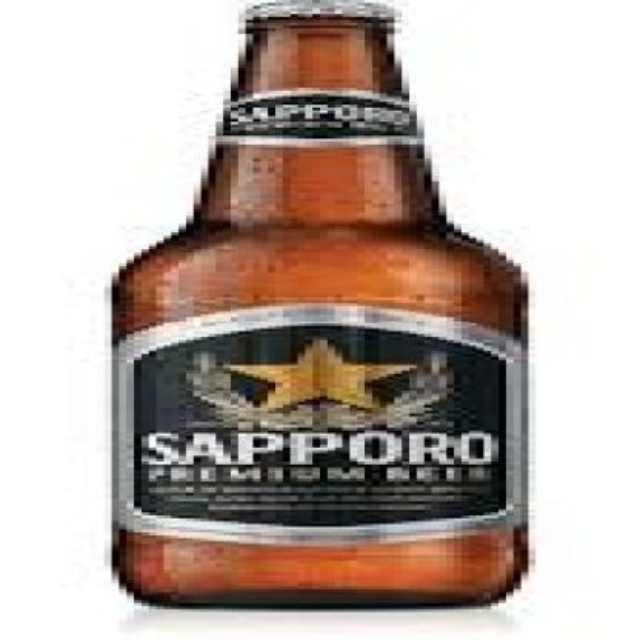trash: (112, 0, 526, 605)
